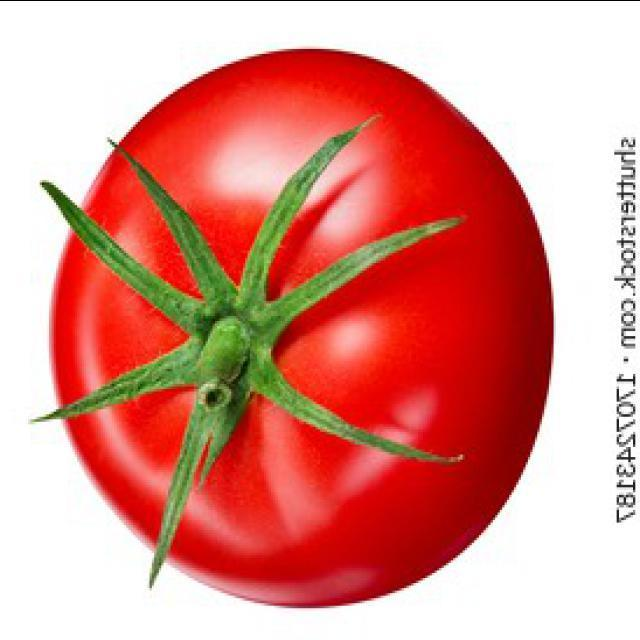Tomato: (36, 49, 554, 611)
